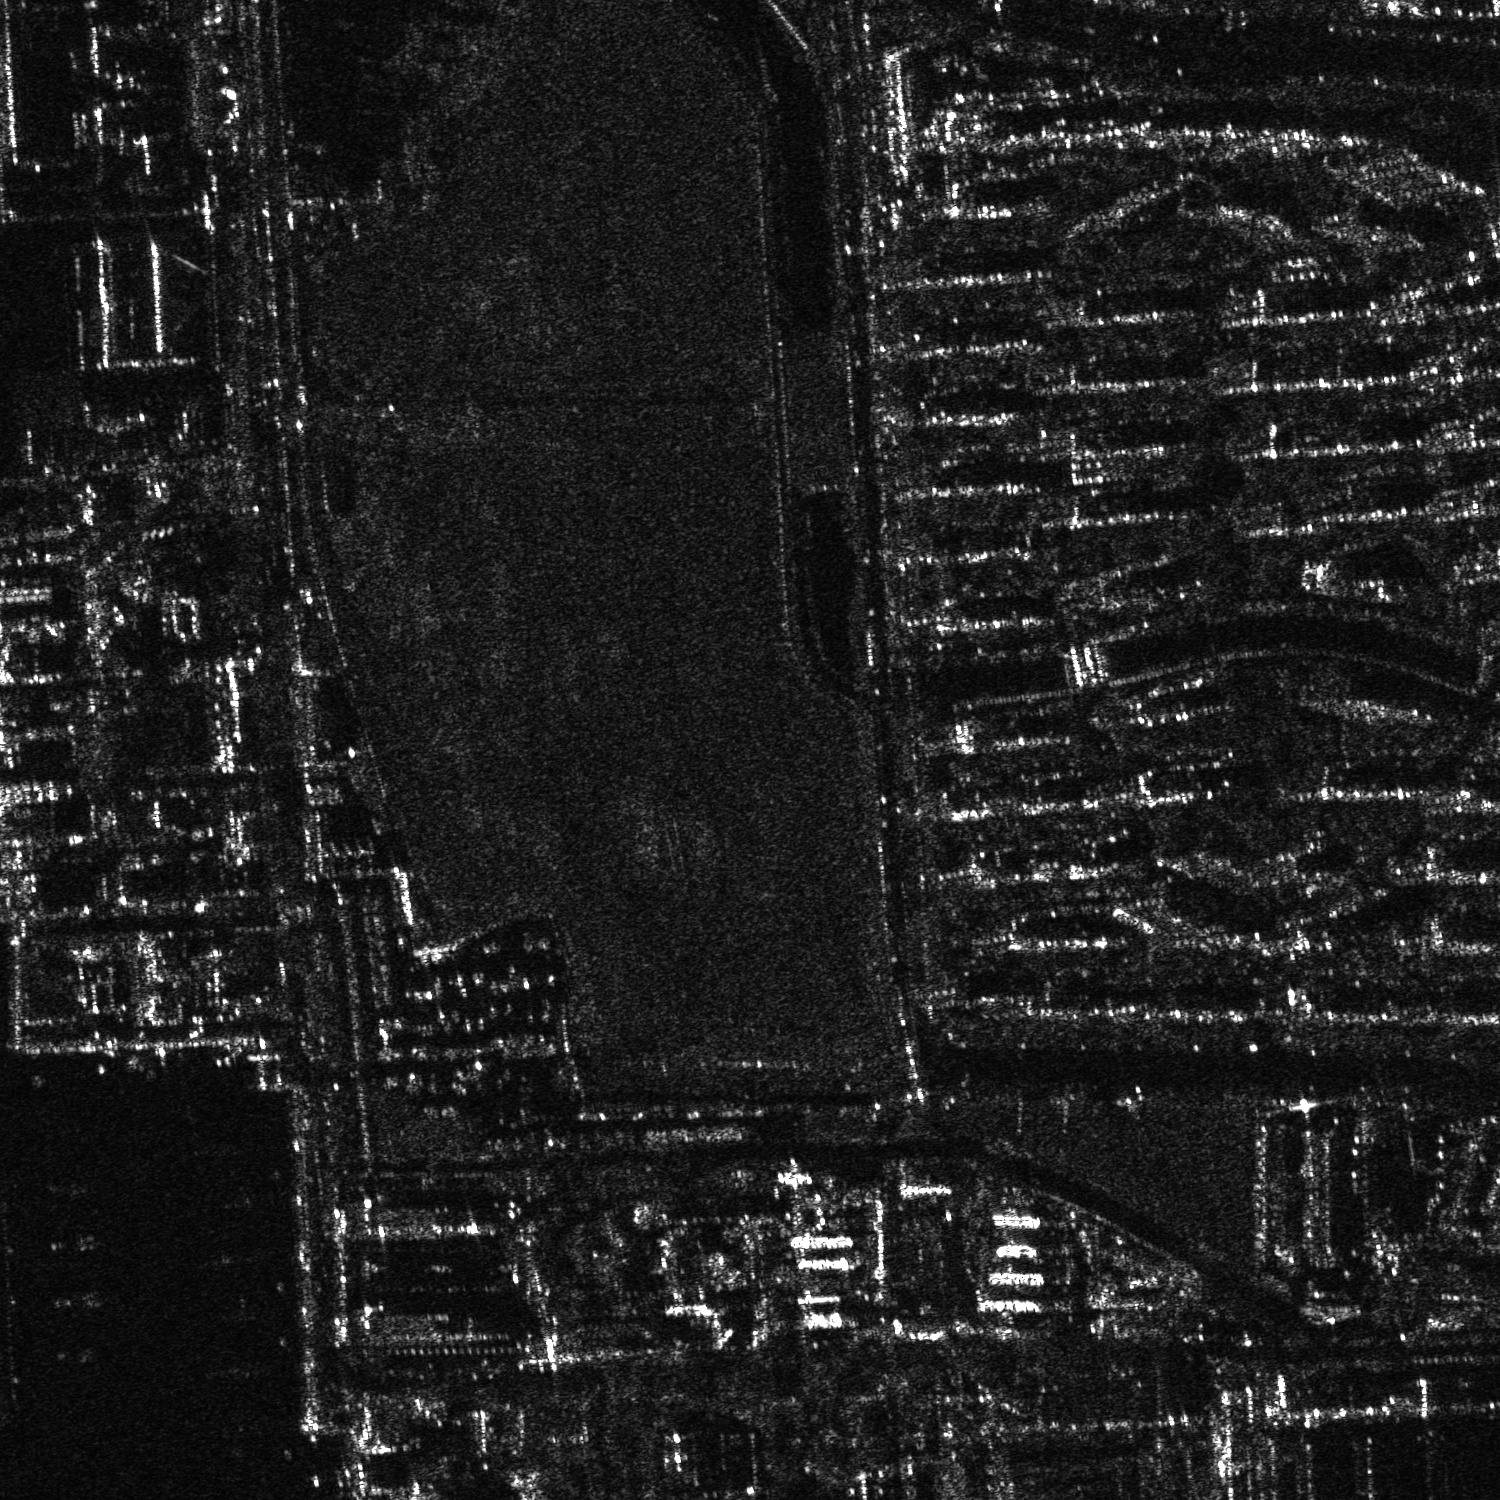ARJ21: (43, 1287, 113, 1316), (51, 1341, 104, 1370)
other: (45, 1225, 107, 1260)
